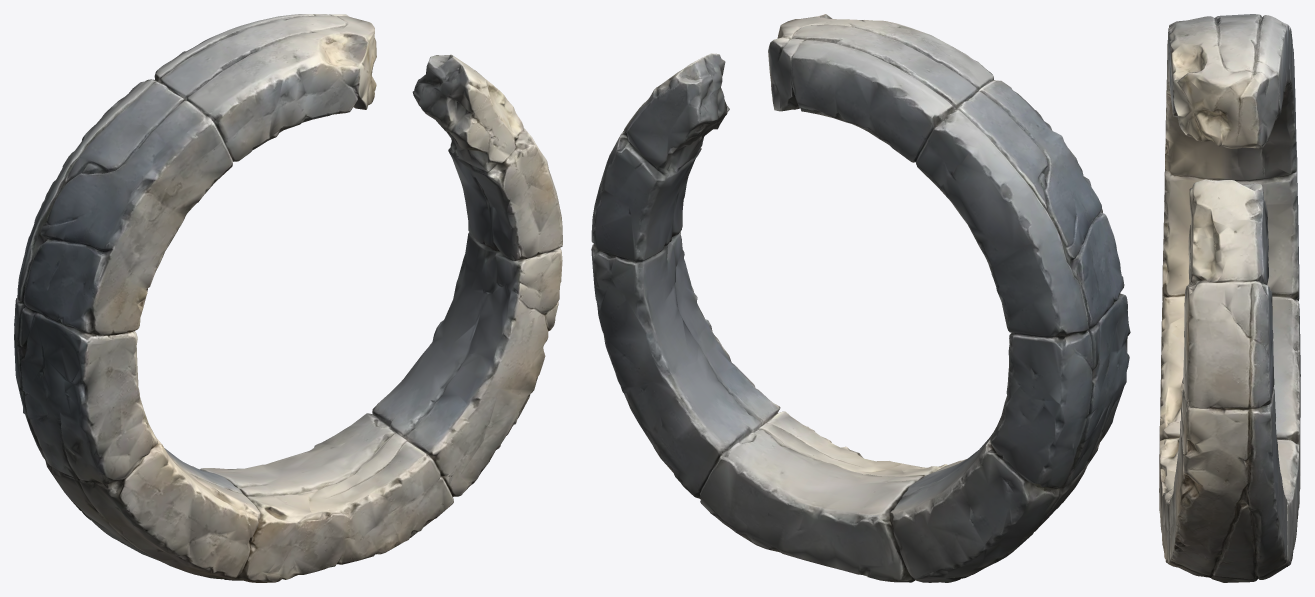
File: anillo_piedra.glb
3 renders of one model, left to right at view 1: azimuth 30°, elevation 25°; view 2: azimuth 150°, elevation 25°; view 3: azimuth 270°, elevation 25°, orthographic. The views are drawn at different scales.
Visible parts, largest first — view 1: tripo_node_847be5eb-e8d3-47c2-8a8d-40040fe013c5; view 2: tripo_node_847be5eb-e8d3-47c2-8a8d-40040fe013c5; view 3: tripo_node_847be5eb-e8d3-47c2-8a8d-40040fe013c5.
Part boxes in pixels (box(x1,y1,x2,y2)): tripo_node_847be5eb-e8d3-47c2-8a8d-40040fe013c5: box(14, 14, 562, 582); tripo_node_847be5eb-e8d3-47c2-8a8d-40040fe013c5: box(591, 14, 1130, 582); tripo_node_847be5eb-e8d3-47c2-8a8d-40040fe013c5: box(1159, 14, 1300, 582).
Bounding box in the file's own units: 0.9999 × 0.9601 × 0.2501.
1 material, 1 textured.
